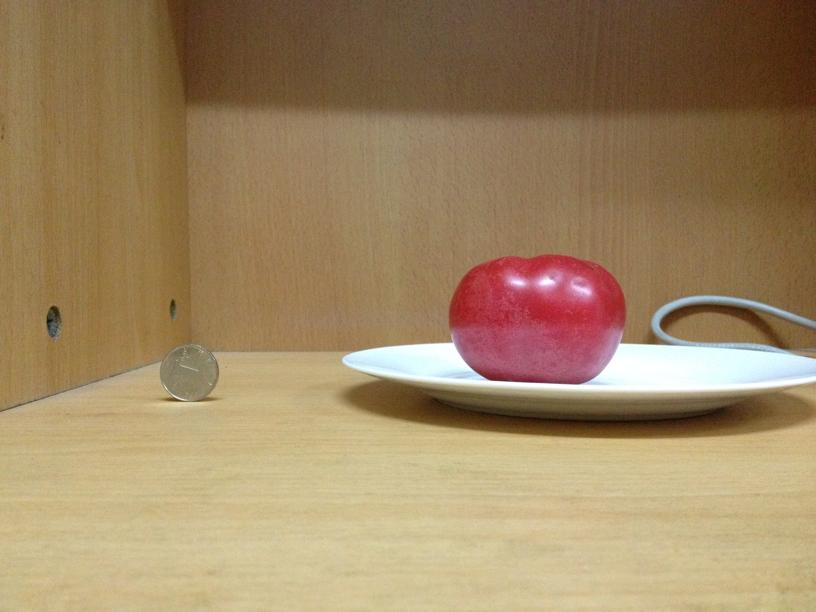coin: (156, 347, 218, 402)
tomato: (441, 257, 627, 383)
